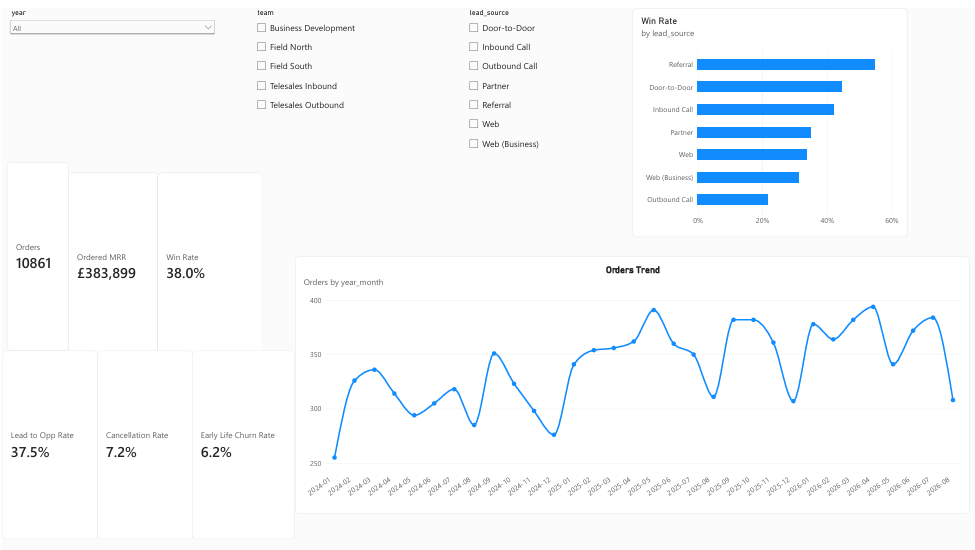

The page's visual inventory and layout, read from the dashboard file:
{"tool":"powerbi","page":{"name":"Executive overview","canvas":[1920,1080],"ordinal":0},"visuals":[{"type":"slicer","fields":{"Values":["dim_date.year"]},"box":[10,0,413.3,303.3],"z":0},{"type":"slicer","fields":{"Values":["dim_rep.team"]},"box":[493.3,0,415,302.5],"z":1000},{"type":"slicer","fields":{"Values":["dim_lead_source.lead_source"]},"box":[910,0,412.5,322.5],"z":2000},{"type":"cardVisual","fields":{"Data":["_Measures.Orders"]},"box":[10,303.3,120,370],"z":3000},{"type":"cardVisual","fields":{"Data":["_Measures.Ordered MRR"]},"box":[130,323.3,175,370],"z":4000},{"type":"cardVisual","fields":{"Data":["_Measures.Win Rate"]},"box":[305,323.3,207.5,370],"z":5000},{"type":"cardVisual","fields":{"Data":["_Measures.Lead to Opp Rate"]},"box":[0,673.3,187.5,370],"z":6000},{"type":"cardVisual","fields":{"Data":["_Measures.Cancellation Rate"]},"box":[186.7,673.3,188,370],"z":7000},{"type":"cardVisual","fields":{"Data":["_Measures.Early Life Churn Rate"]},"box":[373.3,673.3,202.5,370],"z":8000},{"type":"lineChart","title":"Orders Trend","fields":{"Category":["dim_date.year_month"],"Y":["_Measures.Orders"]},"box":[575,487.5,1325,505],"z":9000},{"type":"clusteredBarChart","fields":{"Category":["dim_lead_source.lead_source"],"Y":["_Measures.Win Rate"]},"box":[1237.5,0,540,450],"z":10000}]}

Visuals, with their boxes in screenshot pixels (x1, y1, x2, y2), scaled from the page's 1920x1080 canvas onto the 975x550 screenshot:
slicer - dim_date.year: (left=5, top=0, right=215, bottom=154)
slicer - dim_rep.team: (left=251, top=0, right=461, bottom=154)
slicer - dim_lead_source.lead_source: (left=462, top=0, right=672, bottom=164)
cardVisual - _Measures.Orders: (left=5, top=154, right=66, bottom=343)
cardVisual - _Measures.Ordered MRR: (left=66, top=165, right=155, bottom=353)
cardVisual - _Measures.Win Rate: (left=155, top=165, right=260, bottom=353)
cardVisual - _Measures.Lead to Opp Rate: (left=0, top=343, right=95, bottom=531)
cardVisual - _Measures.Cancellation Rate: (left=95, top=343, right=190, bottom=531)
cardVisual - _Measures.Early Life Churn Rate: (left=190, top=343, right=292, bottom=531)
"Orders Trend" lineChart: (left=292, top=248, right=965, bottom=505)
clusteredBarChart - dim_lead_source.lead_source x _Measures.Win Rate: (left=628, top=0, right=903, bottom=229)
